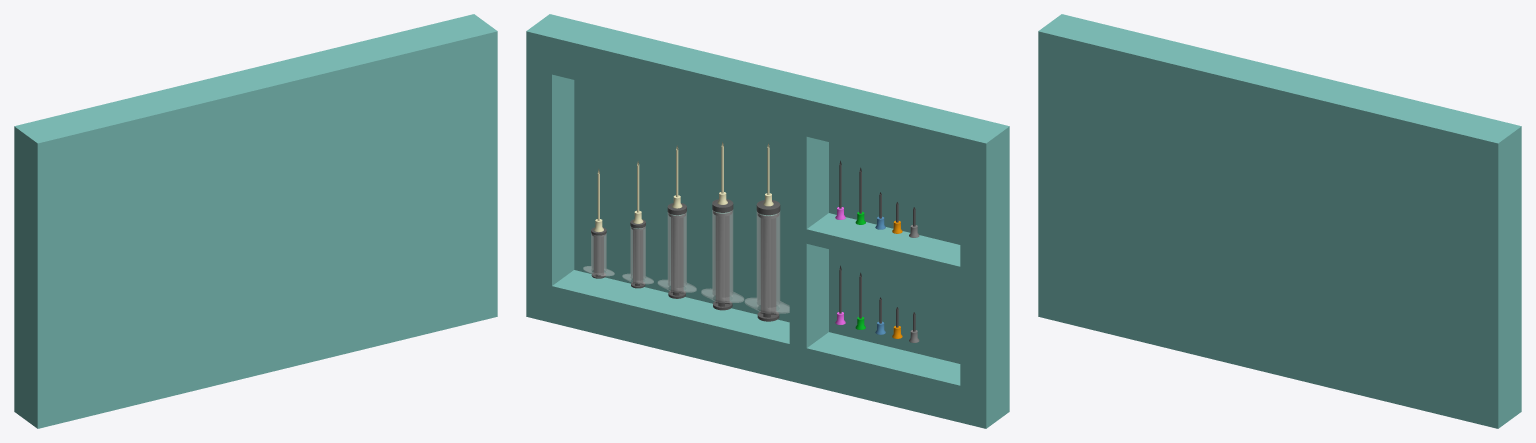
The model's file is syringes3.fbx.
3 renders of one model, left to right at view 1: azimuth 30°, elevation 25°; view 2: azimuth 150°, elevation 25°; view 3: azimuth 330°, elevation 25°, orthographic.
Parts seen in each view (by area): view 1: NaaldKast; view 2: NaaldKast, basis1_5, basis1_4, basis1_3, Cylinder_1_5, Cylinder_1_4, Cylinder_1_3, basis1_2, basis1, Cylinder_1_2, Cylinder_1; view 3: NaaldKast.
Boxes of the visible parts, x1=… form: NaaldKast: x1=14, y1=14, x2=497, y2=428; NaaldKast: x1=526, y1=14, x2=1009, y2=428; basis1_5: x1=745, y1=200, x2=789, y2=313; basis1_4: x1=701, y1=199, x2=743, y2=302; basis1_3: x1=658, y1=203, x2=696, y2=292; Cylinder_1_5: x1=757, y1=218, x2=779, y2=321; Cylinder_1_4: x1=713, y1=215, x2=732, y2=310; Cylinder_1_3: x1=668, y1=217, x2=685, y2=298; basis1_2: x1=622, y1=219, x2=653, y2=283; basis1: x1=583, y1=227, x2=614, y2=275; Cylinder_1_2: x1=631, y1=230, x2=645, y2=288; Cylinder_1: x1=591, y1=236, x2=605, y2=278; NaaldKast: x1=1038, y1=14, x2=1521, y2=428.
Size of the model in its own units: 31.73 by 18.81 by 3.05.
